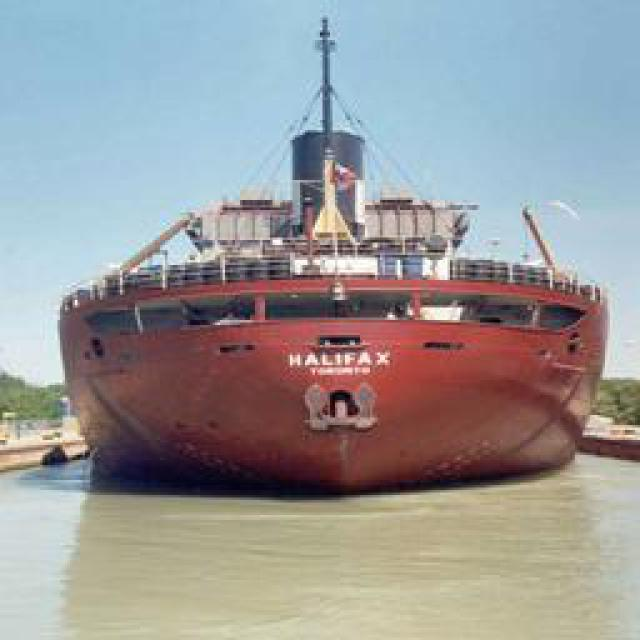Ship: (58, 117, 606, 490)
